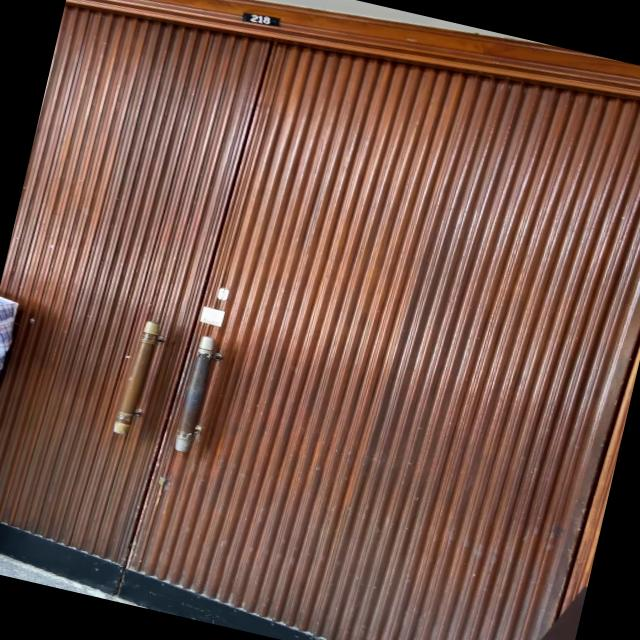room218: (239, 7, 282, 30)
